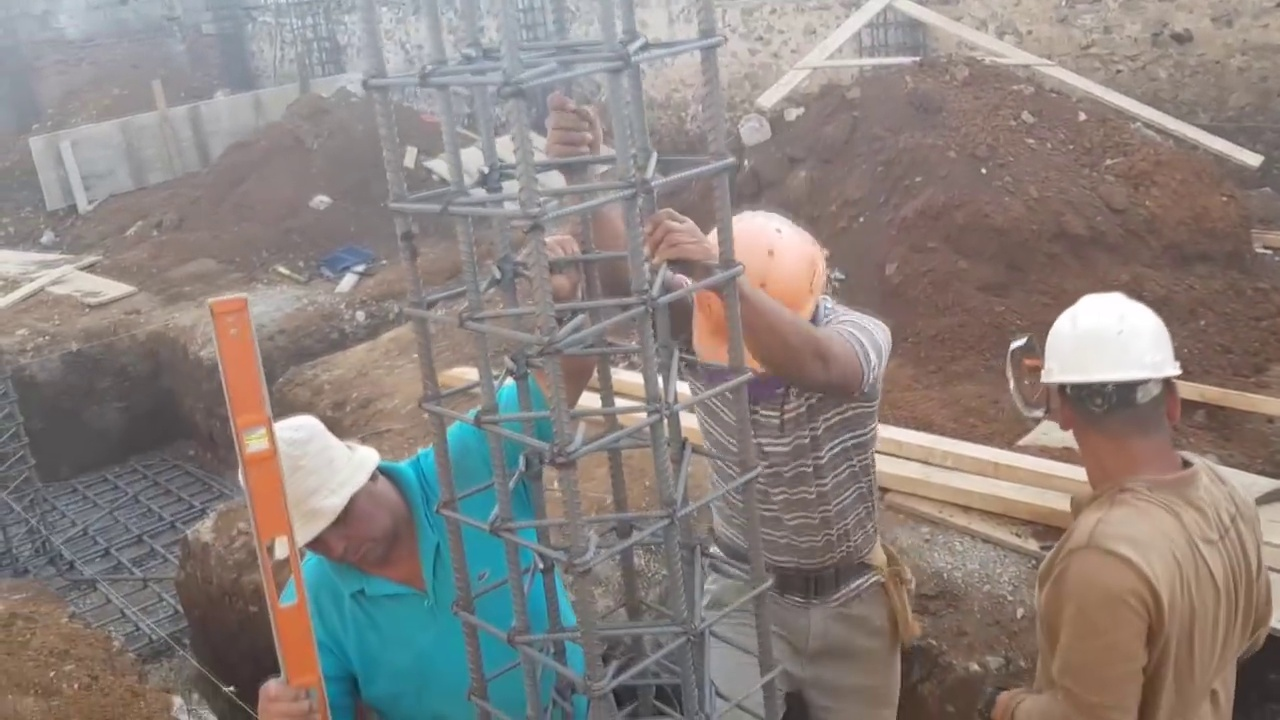helmet: (689, 209, 828, 363), (1047, 295, 1188, 400)
helmet-off: (238, 423, 416, 606)
helmet-on: (681, 203, 836, 392), (1050, 291, 1191, 496)
person: (547, 92, 905, 715), (236, 228, 590, 719), (999, 279, 1259, 720)
